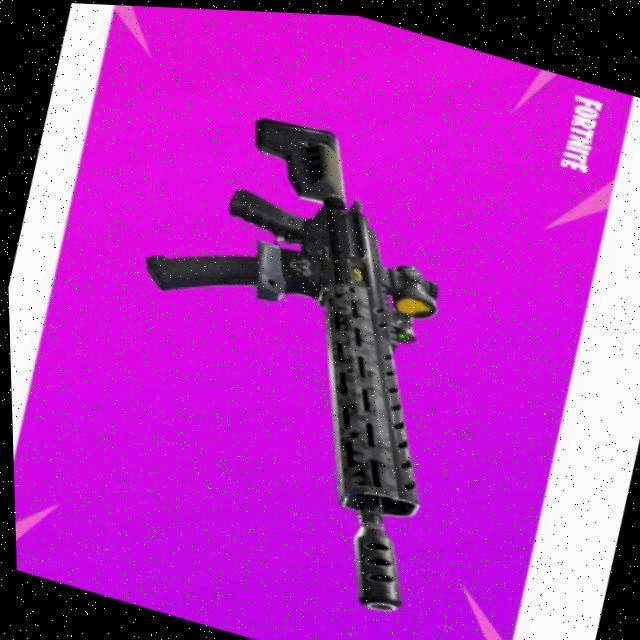firearm: (68, 81, 509, 621)
